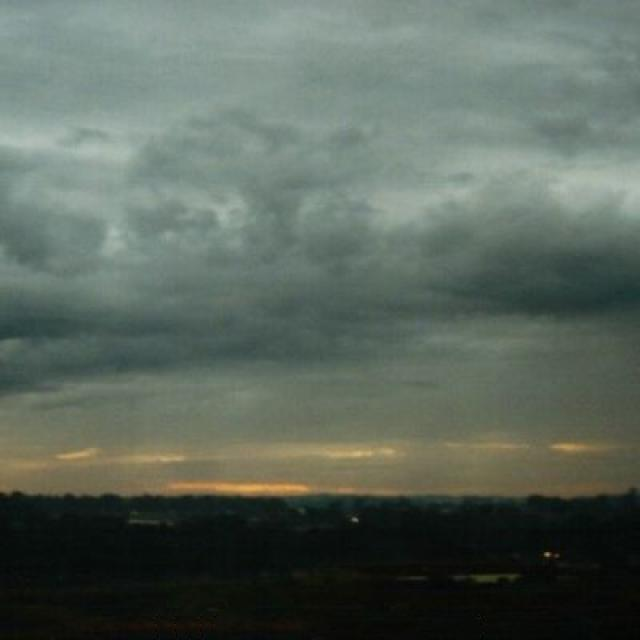Ns: (4, 88, 640, 439)
